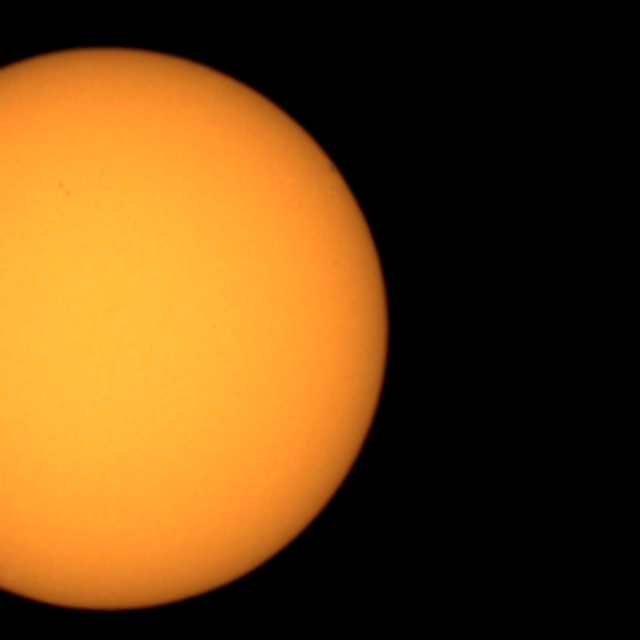sunspot: (55, 178, 74, 201)
